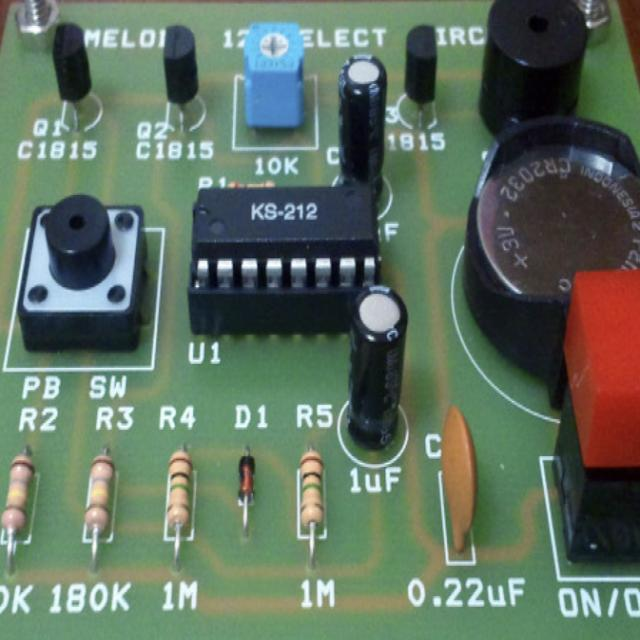Electrolytic capacitor: (352, 278, 408, 465), (335, 51, 390, 202)
IC: (193, 182, 385, 299)
ceramic capacitor: (433, 397, 486, 566)
resistor: (80, 444, 118, 567), (2, 445, 38, 561), (163, 443, 195, 560), (294, 441, 325, 556)
switch: (17, 188, 154, 354)
transistor: (47, 21, 99, 139), (159, 20, 205, 130), (404, 19, 440, 134)
zener diode: (235, 441, 259, 531)
